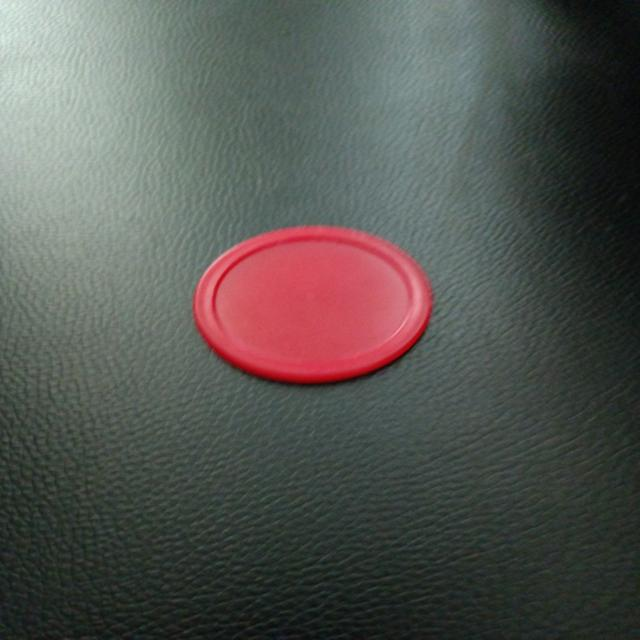chip: (188, 222, 436, 385)
